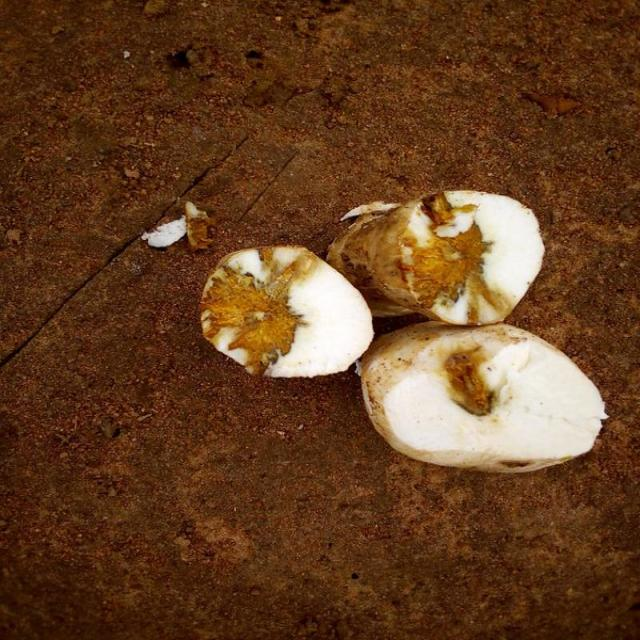cassava leaf: (360, 319, 610, 474), (328, 187, 546, 325), (200, 242, 374, 380)
